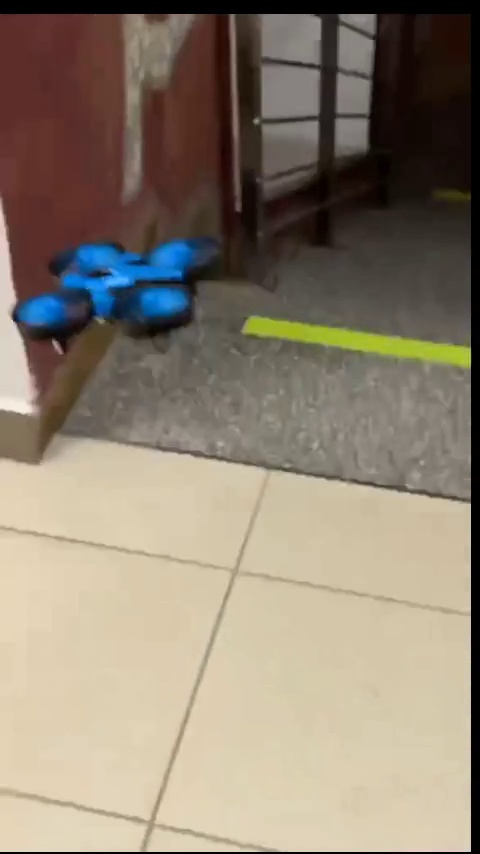drone: (21, 237, 219, 349)
